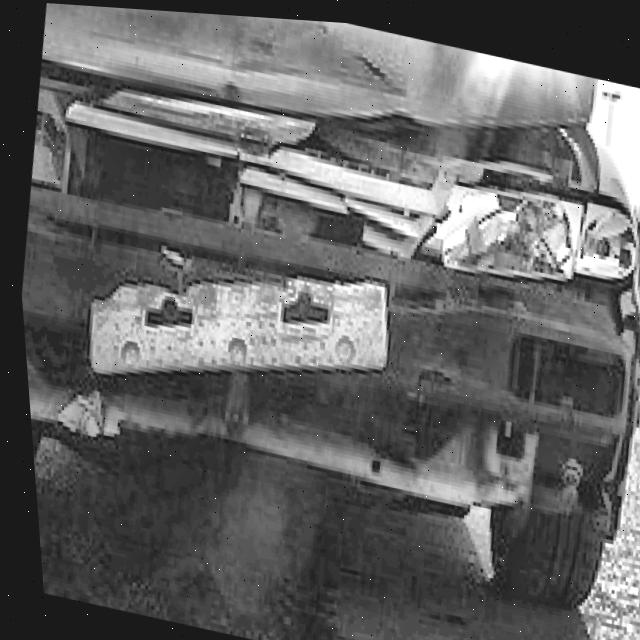light_vehicle: (0, 0, 640, 622)
